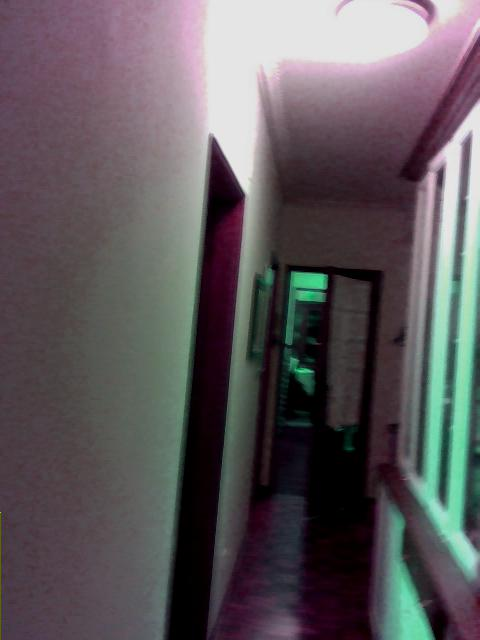semi_door: (266, 262, 385, 517)
